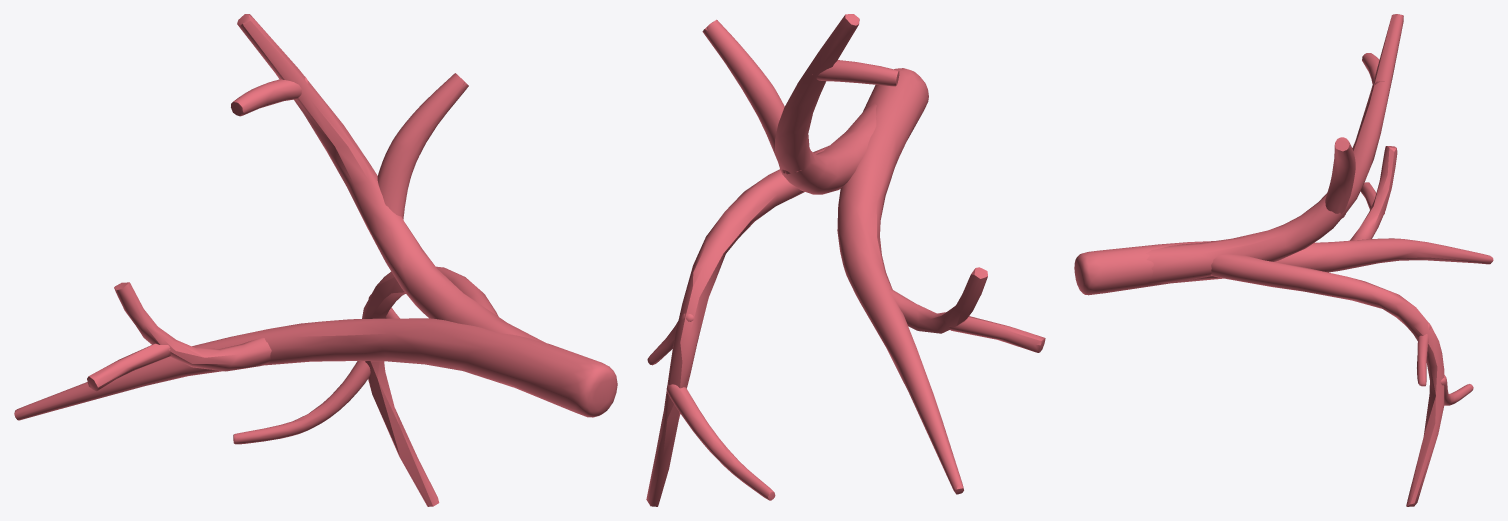
File: fma8627_cx258.glb
3 renders of one model, left to right at view 1: azimuth 30°, elevation 25°; view 2: azimuth 150°, elevation 25°; view 3: azimuth 270°, elevation 25°, orthographic. The views are drawn at different scales.
Parts seen in each view (by area): view 1: FMA8627_CX258; view 2: FMA8627_CX258; view 3: FMA8627_CX258.
Part boxes in pixels (bbox=[...]): FMA8627_CX258: bbox=[14, 14, 617, 506]; FMA8627_CX258: bbox=[646, 14, 1045, 506]; FMA8627_CX258: bbox=[1074, 14, 1493, 506].
Bounding box in the file's own units: 0.0504 × 0.0695 × 0.0627.
